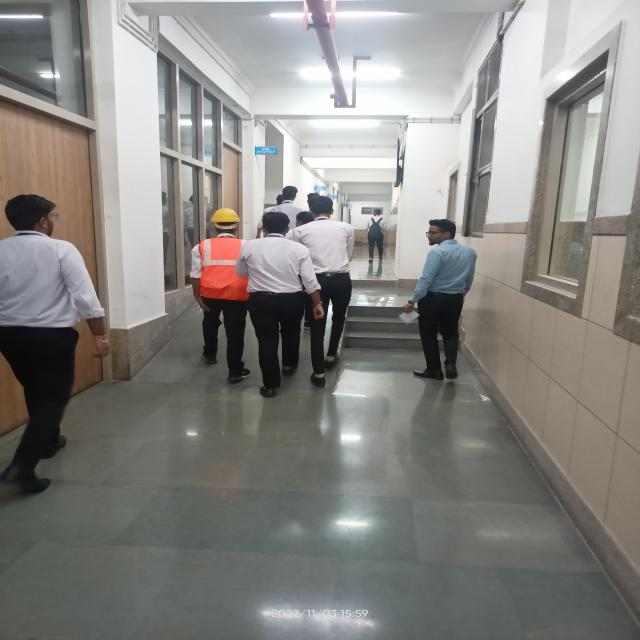safe: (188, 207, 252, 380)
unsafe: (0, 204, 108, 419), (248, 212, 314, 395), (406, 220, 480, 382), (303, 197, 357, 373), (364, 207, 385, 261)
